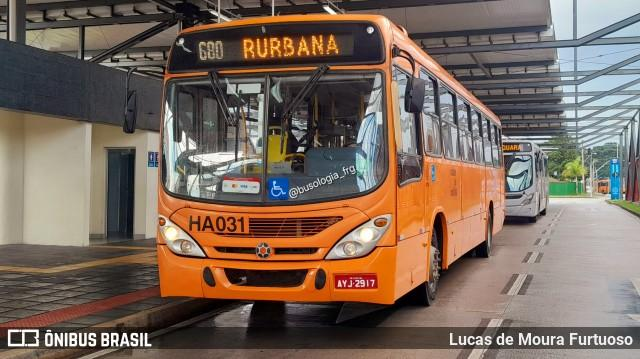RURBANA: (235, 31, 342, 61)
